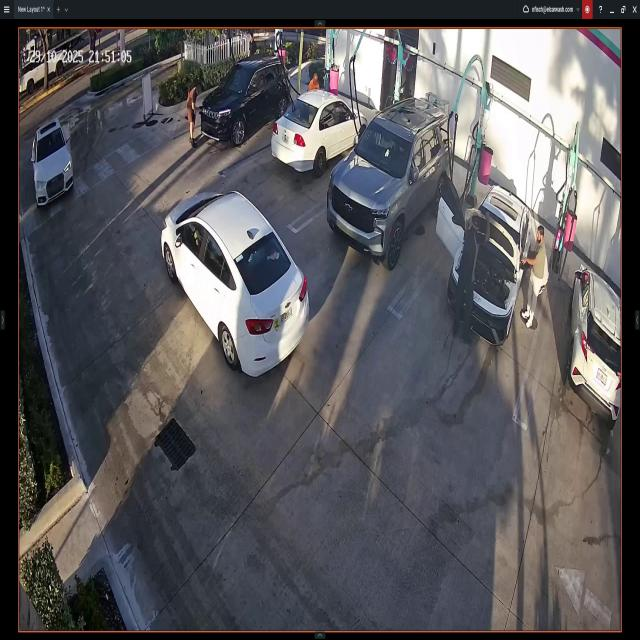Car: (162, 190, 309, 380), (330, 98, 453, 272), (442, 178, 534, 346), (274, 88, 372, 174), (568, 267, 622, 423), (201, 59, 290, 144), (32, 119, 72, 205)
